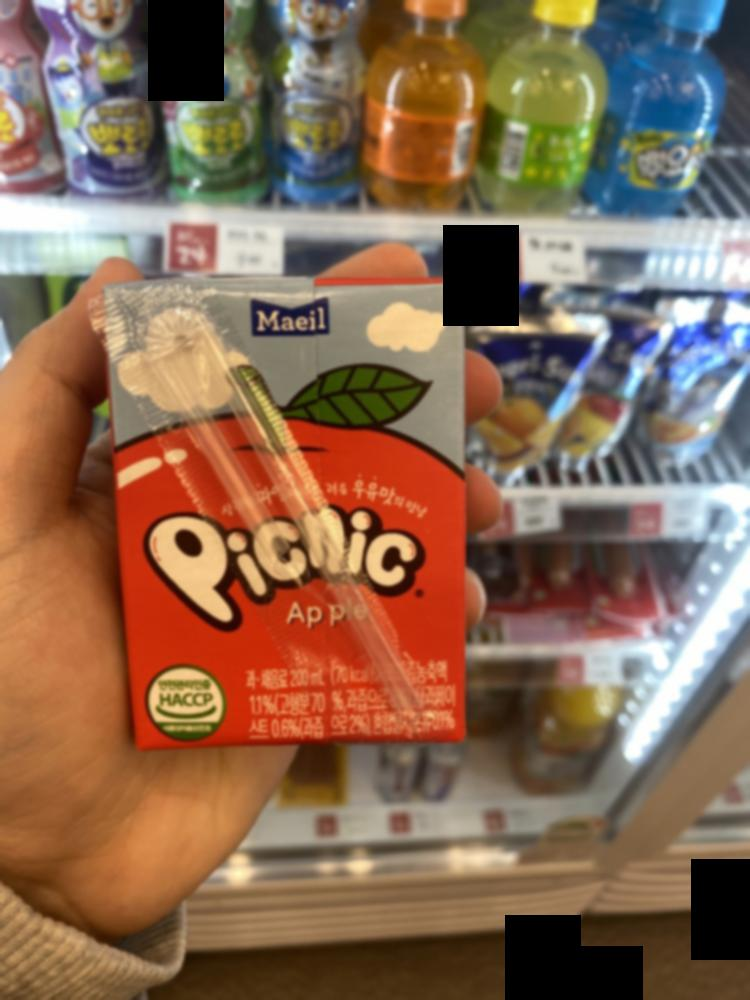gatorade_lemon: (96, 250, 473, 754)
